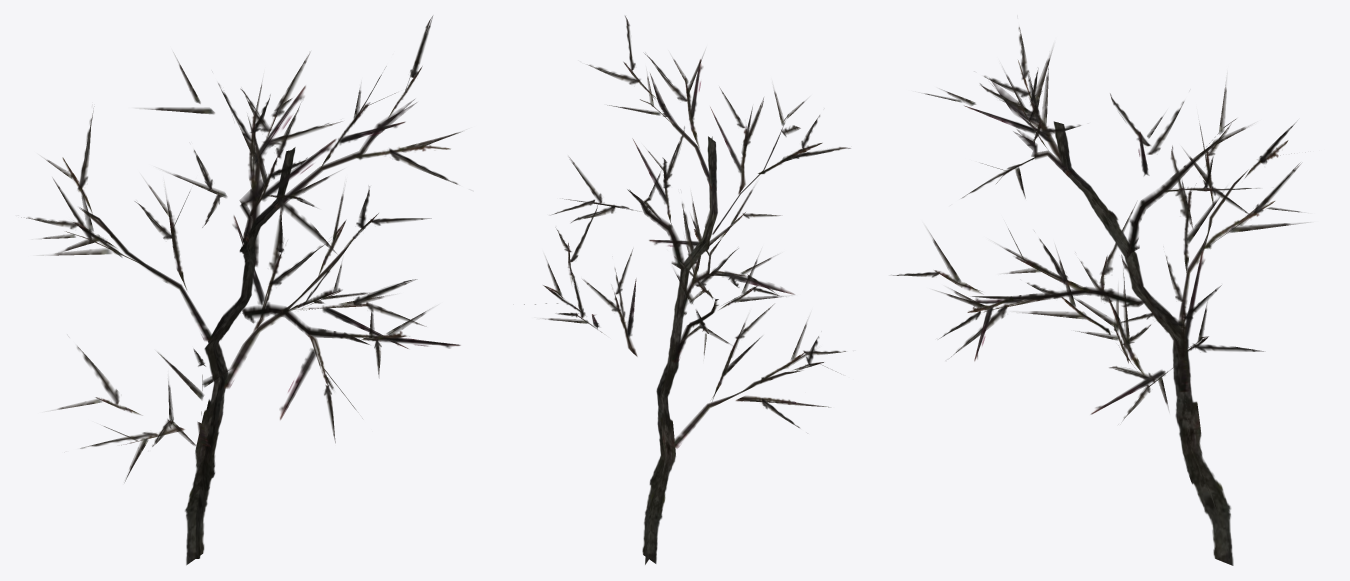
The model's file is veg-81.glb.
3 views of the same model, side by side, from view 1: azimuth 30°, elevation 25°; view 2: azimuth 150°, elevation 25°; view 3: azimuth 270°, elevation 25° (orthographic). The views are drawn at different scales.
Parts seen in each view (by area): view 1: _tmxk_VarB_LOD3_81; view 2: _tmxk_VarB_LOD3_81; view 3: _tmxk_VarB_LOD3_81.
Boxes of the visible parts, bbox=[...] form: _tmxk_VarB_LOD3_81: bbox=[21, 16, 462, 565]; _tmxk_VarB_LOD3_81: bbox=[524, 16, 850, 564]; _tmxk_VarB_LOD3_81: bbox=[892, 27, 1307, 565].
Bounding box in the file's own units: 0.4833 × 0.689 × 0.5008.
Materials: 1 (1 with a texture image).
